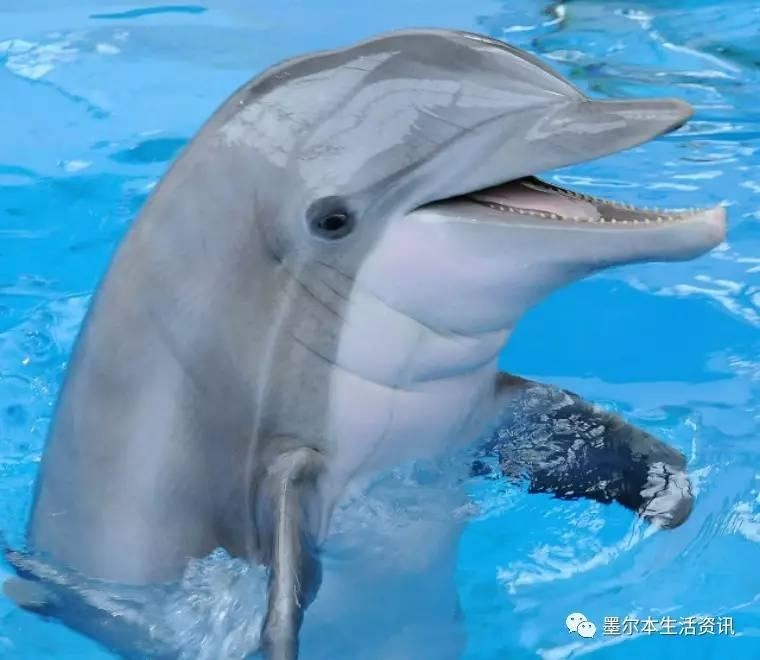fish: (9, 32, 728, 654)
